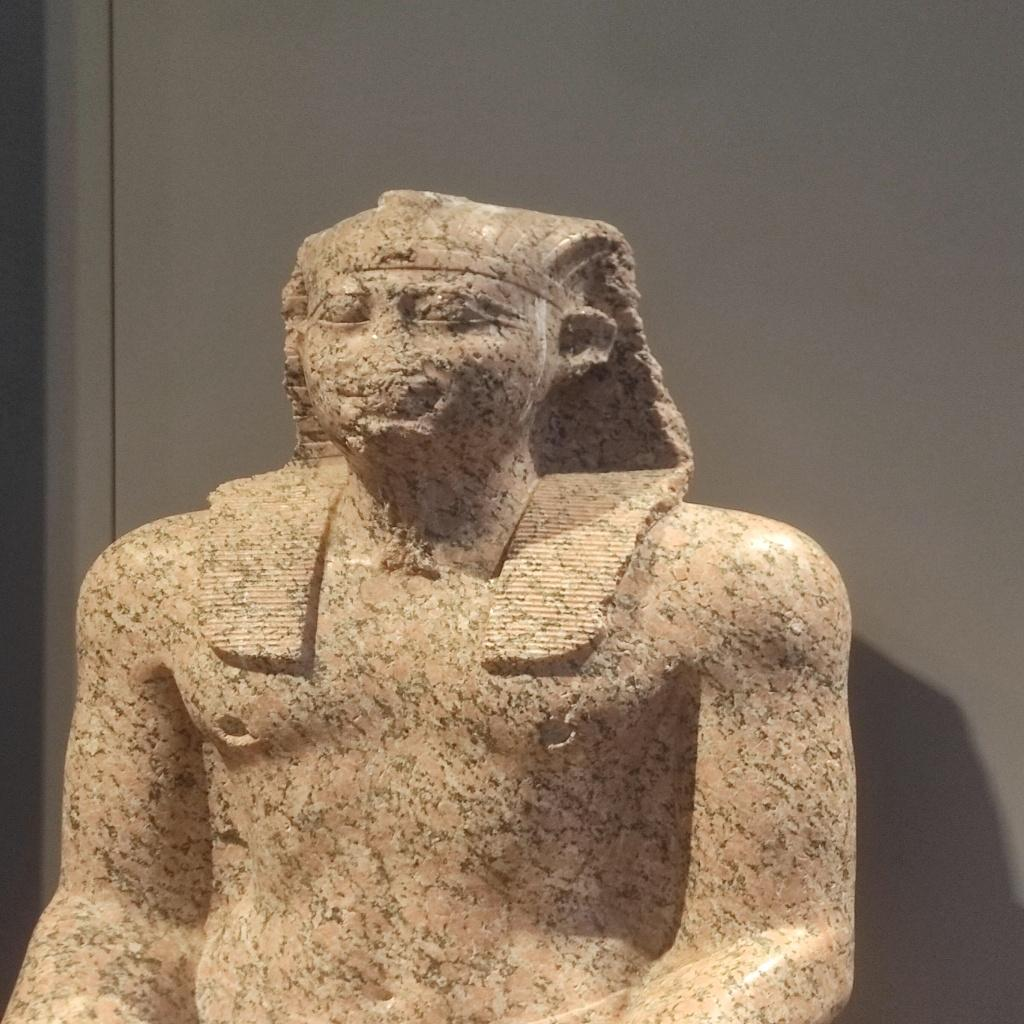Statue of Amenmhat I: (6, 186, 864, 1022)
